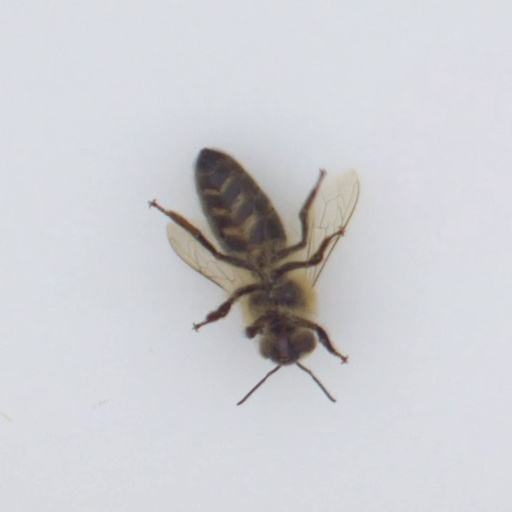Bee: (182, 138, 345, 373)
